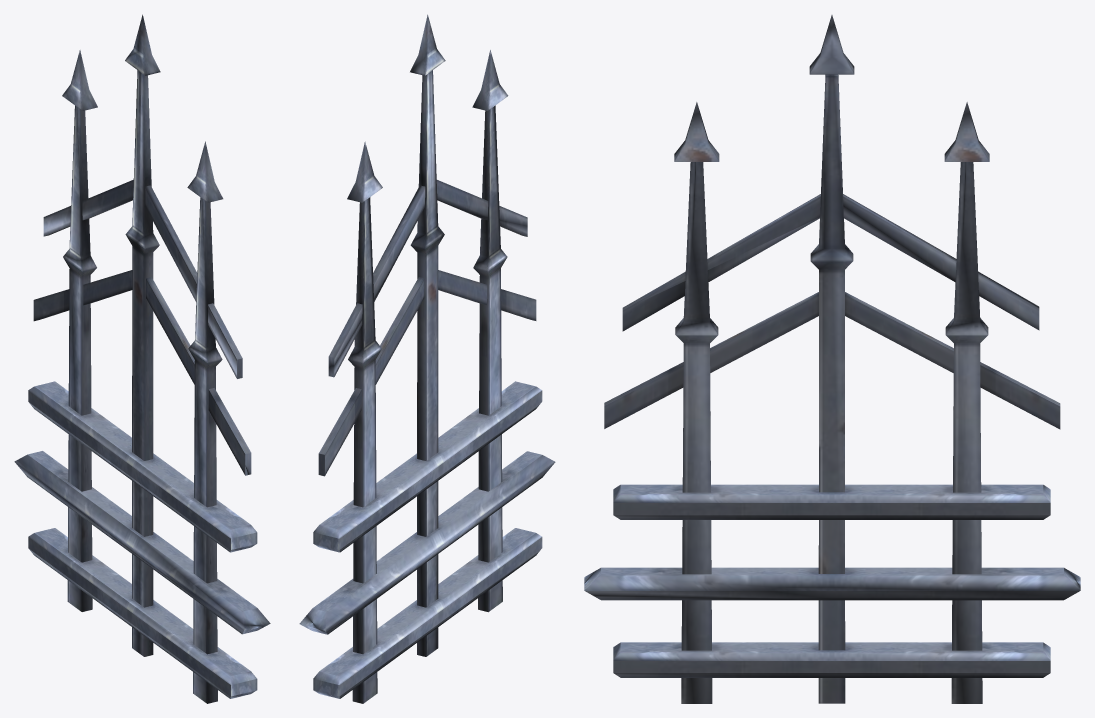
The model's file is main_door.glb.
3 views of the same model, side by side, from view 1: azimuth 30°, elevation 25°; view 2: azimuth 150°, elevation 25°; view 3: azimuth 270°, elevation 25° (orthographic). The views are drawn at different scales.
Visible parts, largest first — view 1: earthGate; view 2: earthGate; view 3: earthGate.
Boxes of the visible parts, bbox=[...] form: earthGate: bbox=[14, 14, 270, 703]; earthGate: bbox=[299, 14, 555, 703]; earthGate: bbox=[584, 15, 1080, 703].
Size of what is drawn, in the model's own units: 0.1426 by 3.31 by 2.16.
1 material, 1 textured.
